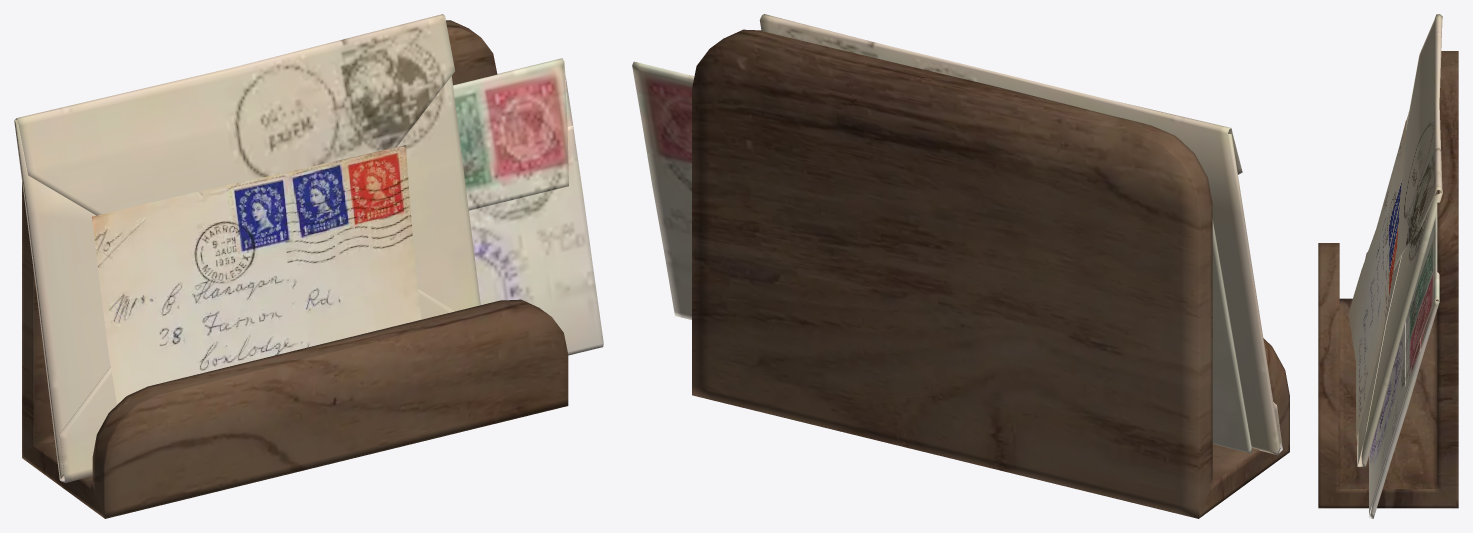
File: wooden-organizer.glb
3 renders of one model, left to right at view 1: azimuth 30°, elevation 25°; view 2: azimuth 150°, elevation 25°; view 3: azimuth 270°, elevation 25°, orthographic. The views are drawn at different scales.
Parts seen in each view (by area): view 1: Plane.099, Plane.010, Plane.091, Plane.098; view 2: Plane.010, Plane.099, Plane.098; view 3: Plane.010, Plane.099, Plane.098, Plane.091.
Boxes of the visible parts, box(x1,y1,x2,y2) form: Plane.099: box(14, 14, 480, 482); Plane.010: box(22, 20, 568, 518); Plane.091: box(92, 145, 421, 404); Plane.098: box(453, 58, 603, 355); Plane.010: box(692, 29, 1289, 518); Plane.099: box(759, 14, 1282, 455); Plane.098: box(632, 61, 1252, 453); Plane.010: box(1318, 51, 1458, 508); Plane.099: box(1357, 14, 1442, 467); Plane.098: box(1369, 212, 1439, 518); Plane.091: box(1348, 120, 1406, 440).
Bounding box in the file's own units: 0.1506 × 0.0927 × 0.0397.
4 materials, 4 textured.
